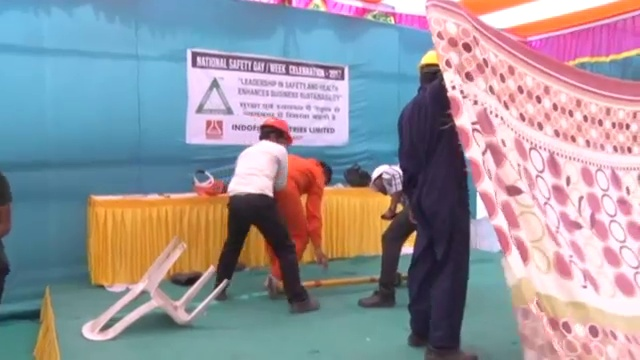helmet: (261, 114, 294, 143), (417, 48, 444, 68), (367, 164, 391, 186)
helmet_off: (316, 157, 335, 187)
helmet_on: (414, 48, 444, 90), (257, 115, 292, 146), (367, 164, 391, 196)
person: (401, 48, 475, 360), (213, 115, 321, 315), (268, 152, 332, 296), (363, 163, 414, 306)
